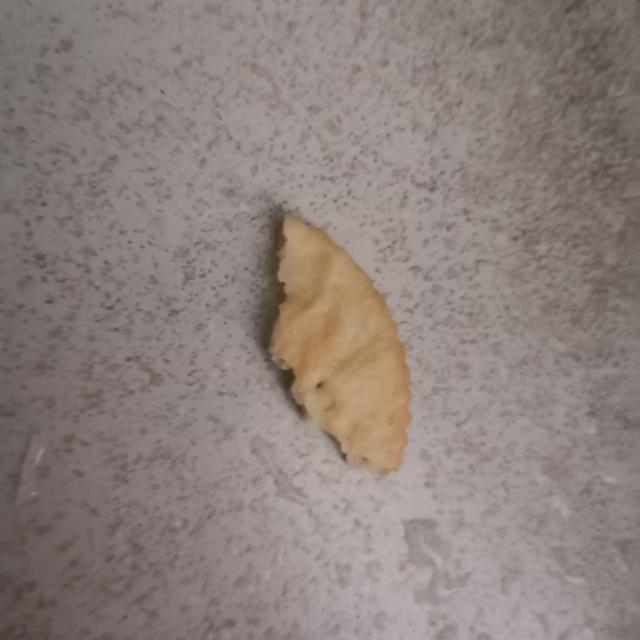Broken: (267, 212, 412, 476)
